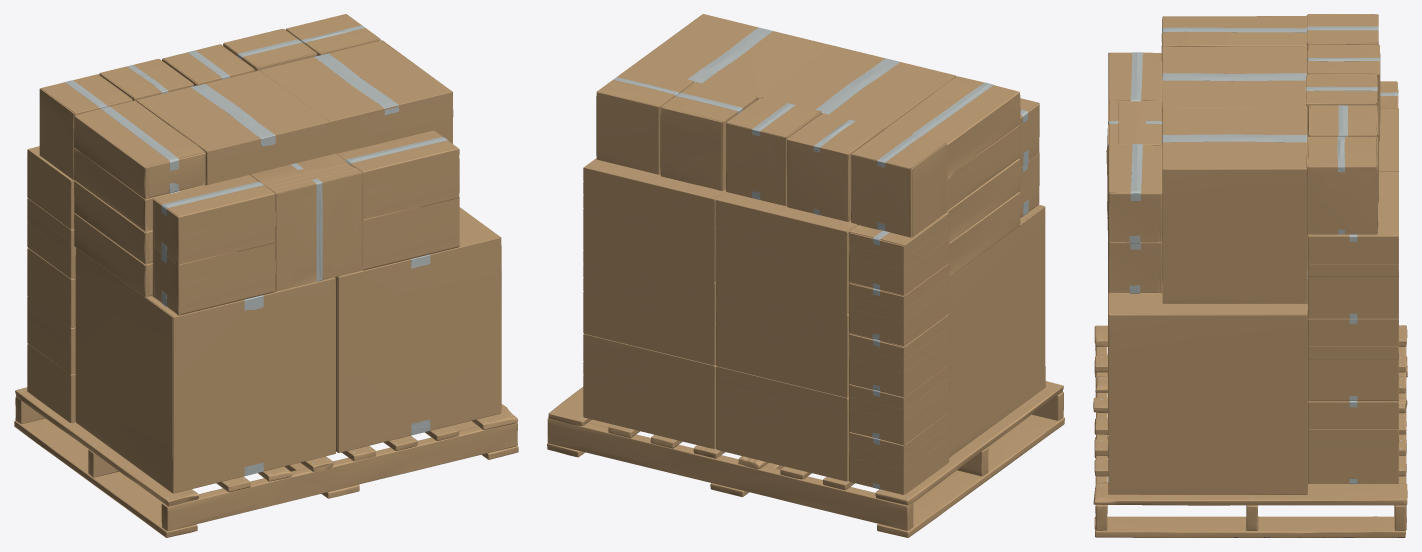
Rendered from pallet_assembly_a06.glb.
The picture shows the model from 3 angles, left to right: view 1: azimuth 30°, elevation 25°; view 2: azimuth 150°, elevation 25°; view 3: azimuth 270°, elevation 25°; orthographic projection. The views are drawn at different scales.
Bounding box in the file's own units: 1.18 × 1.11 × 0.8947.
